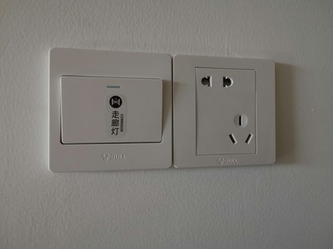switch: (55, 68, 168, 150)
